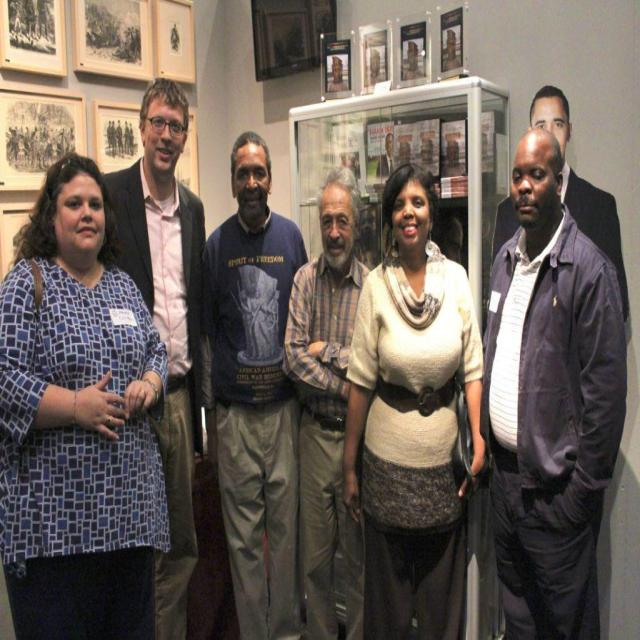body: (0, 142, 173, 639), (476, 126, 628, 640), (342, 163, 486, 635), (102, 75, 209, 639), (196, 129, 311, 639), (280, 168, 373, 640), (491, 84, 632, 340), (320, 30, 491, 174), (0, 0, 141, 160), (562, 436, 639, 639), (167, 19, 181, 52)
